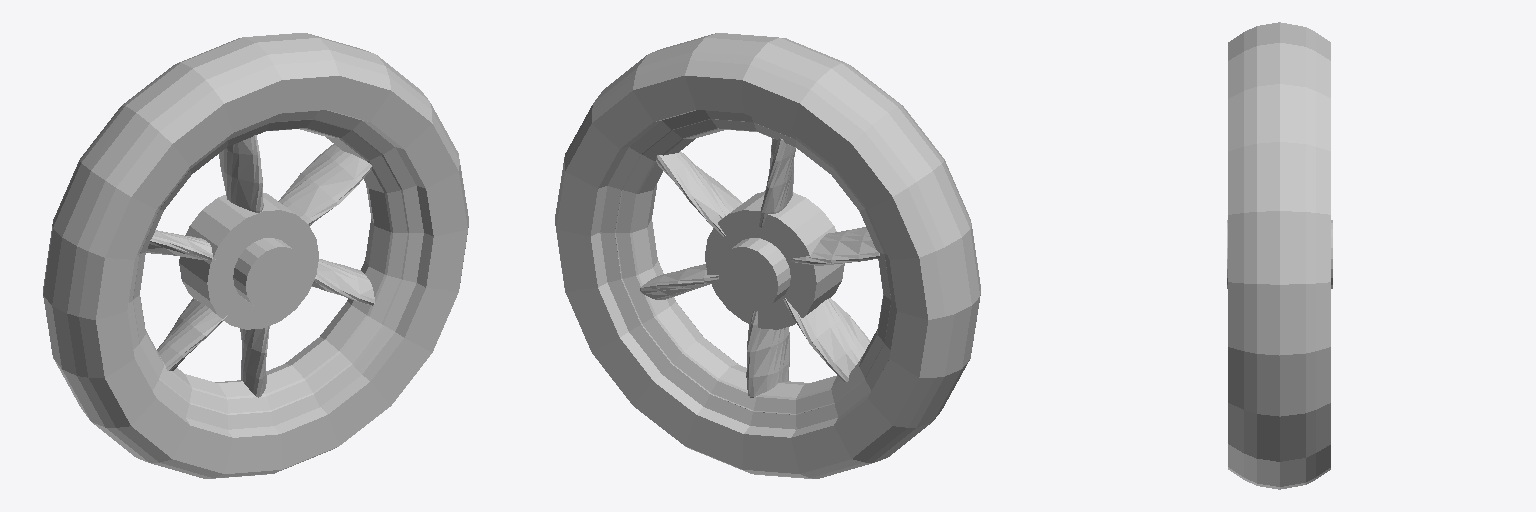
The model's file is backwheel.obj.
3 views of the same model, side by side, from view 1: azimuth 30°, elevation 25°; view 2: azimuth 150°, elevation 25°; view 3: azimuth 270°, elevation 25° (orthographic).
Visible parts, largest first — view 1: pasted__pasted__polySurface90_Untitled.007; view 2: pasted__pasted__polySurface90_Untitled.007; view 3: pasted__pasted__polySurface90_Untitled.007.
Boxes of the visible parts, box(x1,y1,x2,y2) form: pasted__pasted__polySurface90_Untitled.007: box(43, 33, 468, 478); pasted__pasted__polySurface90_Untitled.007: box(555, 33, 980, 478); pasted__pasted__polySurface90_Untitled.007: box(1227, 22, 1332, 489).
Bounding box in the file's own units: 0.0696 × 0.0696 × 0.0158.